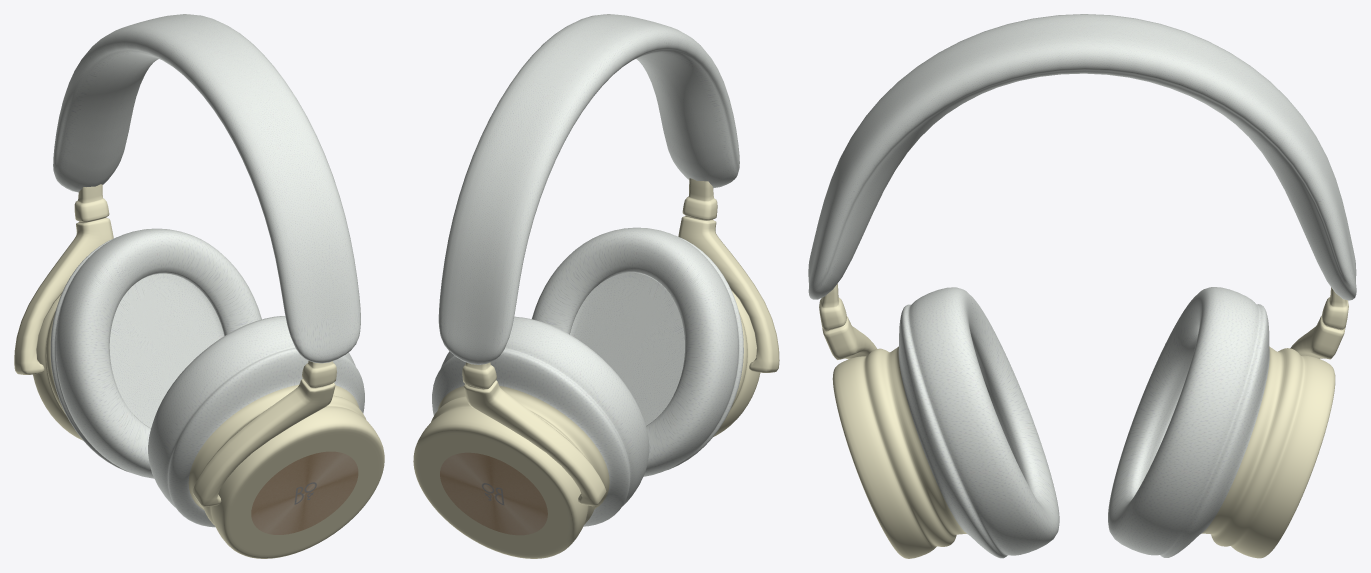
Rendered from headphone.glb.
The picture shows the model from 3 angles, left to right: view 1: azimuth 30°, elevation 25°; view 2: azimuth 150°, elevation 25°; view 3: azimuth 270°, elevation 25°; orthographic projection. The views are drawn at different scales.
Visible parts, largest first — view 1: Cylinder, Circle, Plane; view 2: Cylinder, Circle, Plane; view 3: Cylinder, Circle, Plane.
Part boxes in pixels (bbox=[...]): Cylinder: bbox=[33, 228, 384, 558]; Circle: bbox=[53, 14, 360, 363]; Plane: bbox=[14, 184, 336, 506]; Cylinder: bbox=[413, 227, 760, 558]; Circle: bbox=[438, 14, 739, 364]; Plane: bbox=[462, 178, 779, 506]; Cylinder: bbox=[832, 287, 1335, 558]; Circle: bbox=[808, 14, 1356, 300]; Plane: bbox=[819, 284, 1348, 359].
Size of the model in its own units: 0.0866 by 0.1925 by 0.1836.
3 materials, 2 textured.
